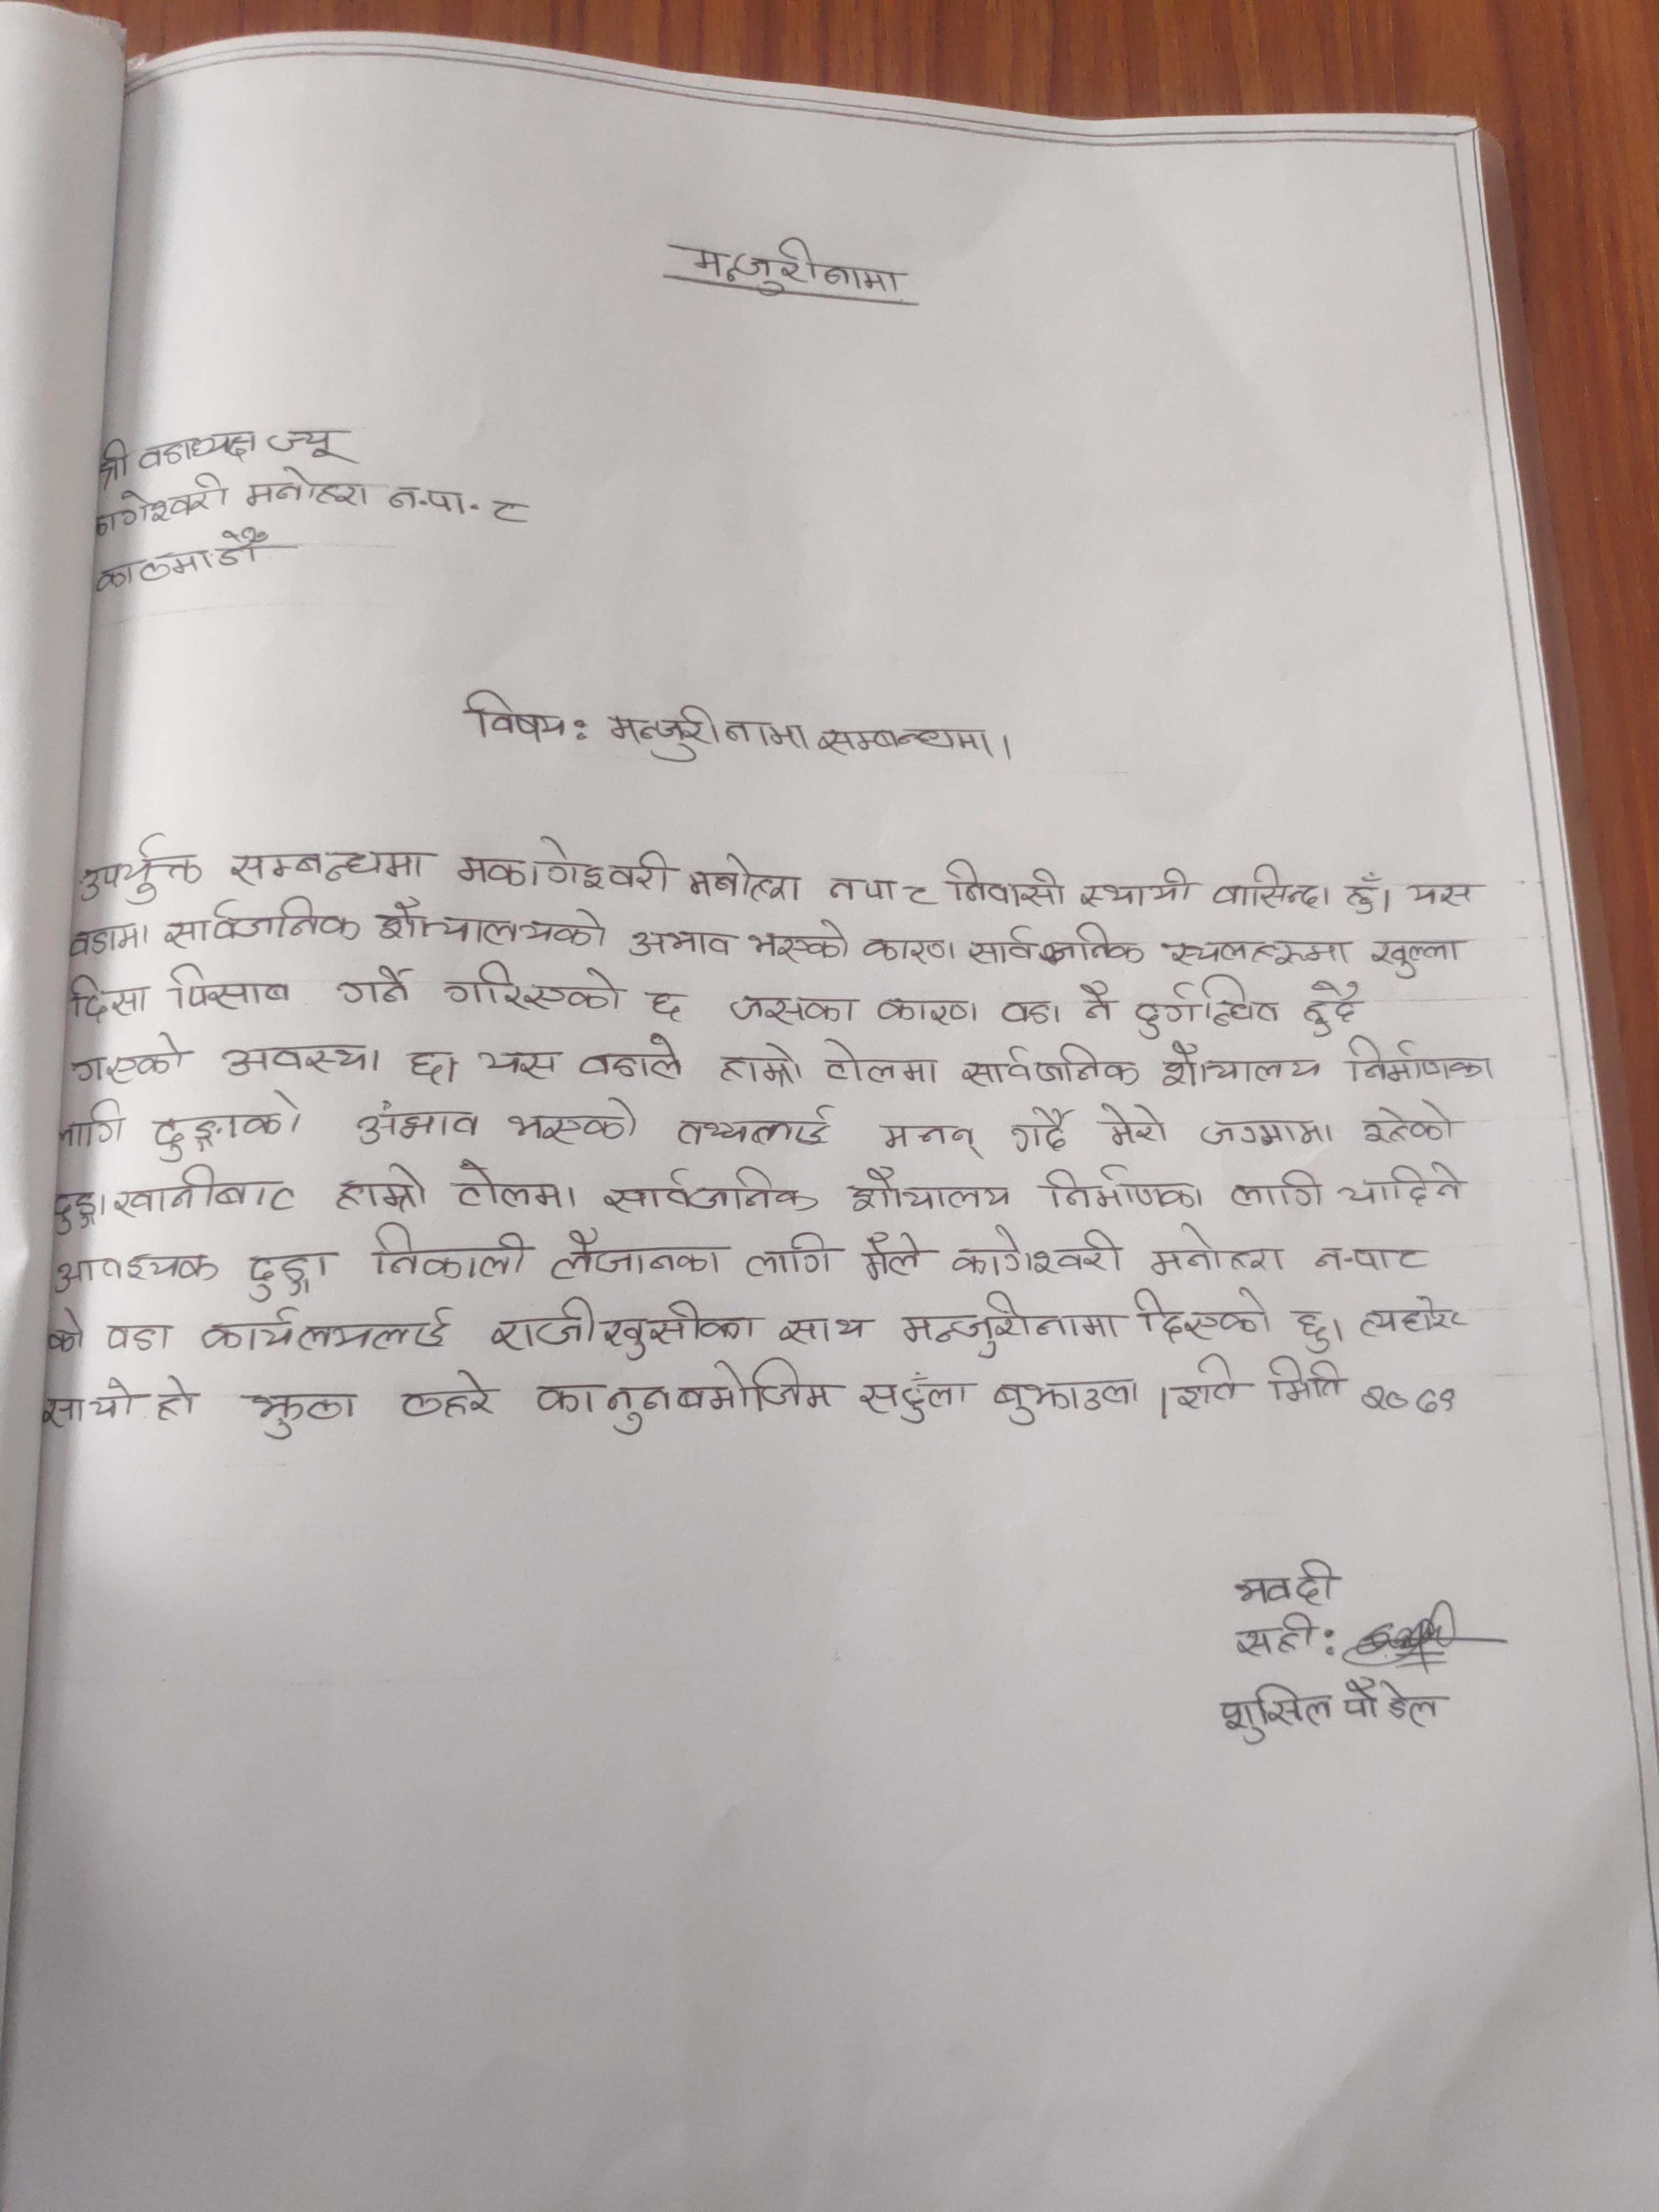text: (530, 1364, 836, 1435), (666, 232, 904, 307), (486, 1298, 756, 1362), (890, 1291, 1124, 1359), (371, 894, 608, 954), (453, 836, 680, 897), (192, 1308, 464, 1357), (85, 531, 279, 596), (598, 1163, 824, 1217), (146, 1089, 303, 1163), (112, 1162, 301, 1223), (162, 897, 366, 953), (1127, 970, 1284, 1042), (441, 961, 627, 1019), (545, 1228, 727, 1285), (73, 831, 207, 907), (364, 1223, 532, 1282), (945, 1224, 1127, 1278), (957, 918, 1150, 968), (958, 1040, 1143, 1090), (1033, 1160, 1206, 1214), (227, 843, 429, 888), (45, 1251, 223, 1301), (85, 474, 227, 536), (847, 1165, 1016, 1216), (1154, 1040, 1321, 1090), (1133, 1287, 1277, 1345), (816, 719, 995, 765), (1342, 1036, 1502, 1087), (674, 1101, 840, 1150), (1215, 1681, 1337, 1747), (606, 700, 721, 770), (504, 1090, 647, 1146), (988, 1374, 1143, 1425), (1145, 1224, 1288, 1278), (816, 1031, 941, 1090), (1159, 930, 1352, 968), (68, 1029, 192, 1089), (448, 1160, 582, 1214), (239, 1388, 368, 1444), (945, 855, 1068, 913), (1335, 1160, 1471, 1211), (1335, 1677, 1453, 1735), (462, 686, 570, 749), (216, 1042, 389, 1080), (167, 961, 298, 1012), (392, 1369, 500, 1428), (1354, 1289, 1467, 1345), (577, 1029, 687, 1087), (688, 850, 805, 904), (239, 465, 371, 512), (859, 1369, 971, 1425), (746, 911, 854, 968), (1155, 1348, 1244, 1418), (1227, 1559, 1345, 1611), (1208, 860, 1321, 914), (352, 1099, 484, 1144), (134, 427, 258, 474), (1075, 867, 1201, 911), (727, 989, 861, 1029), (1359, 1101, 1464, 1151), (242, 1249, 343, 1301), (1366, 930, 1466, 982), (335, 1160, 434, 1212), (42, 1378, 141, 1430), (741, 1228, 836, 1282), (1309, 1240, 1432, 1282), (875, 1118, 992, 1162), (1194, 1118, 1340, 1151), (59, 970, 152, 1022), (1356, 1379, 1471, 1421), (1227, 1169, 1326, 1214), (716, 1040, 803, 1090), (624, 923, 737, 961), (875, 989, 983, 1029), (1234, 1615, 1321, 1663), (770, 1308, 875, 1348), (54, 1094, 129, 1150), (331, 961, 415, 1010), (854, 1228, 927, 1284), (1300, 981, 1368, 1040), (1258, 1359, 1345, 1404), (1093, 1101, 1171, 1150), (857, 932, 958, 968), (718, 716, 814, 754), (1002, 1103, 1073, 1153), (385, 481, 479, 519), (64, 920, 148, 960), (479, 1042, 563, 1082), (263, 423, 350, 462), (51, 1188, 112, 1233), (37, 1306, 89, 1359), (99, 1320, 178, 1353), (823, 871, 896, 906), (1073, 979, 1122, 1031), (91, 441, 138, 495), (1405, 880, 1485, 911), (1288, 1308, 1337, 1359), (483, 489, 537, 531), (1338, 867, 1380, 921), (992, 998, 1063, 1029), (152, 1376, 199, 1423), (406, 1049, 450, 1089), (903, 878, 943, 920), (647, 988, 685, 1022)
